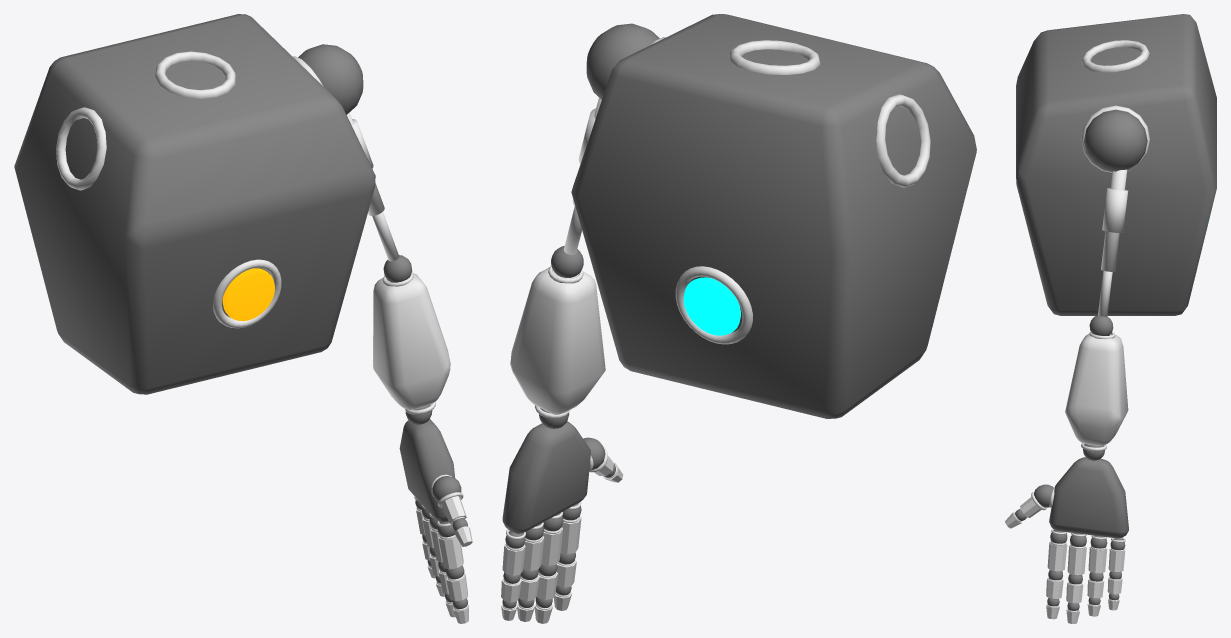
The model's file is torso.fbx.
3 views of the same model, side by side, from view 1: azimuth 30°, elevation 25°; view 2: azimuth 150°, elevation 25°; view 3: azimuth 270°, elevation 25° (orthographic). The views are drawn at different scales.
Visible parts, largest first — view 1: Cube.045; view 2: Cube.045; view 3: Cube.045.
Boxes of the visible parts, x1,y1,x2,y2 form: Cube.045: [14, 14, 472, 623]; Cube.045: [501, 14, 976, 623]; Cube.045: [1005, 14, 1216, 623].
Bounding box in the file's own units: 224 × 339 × 135.
